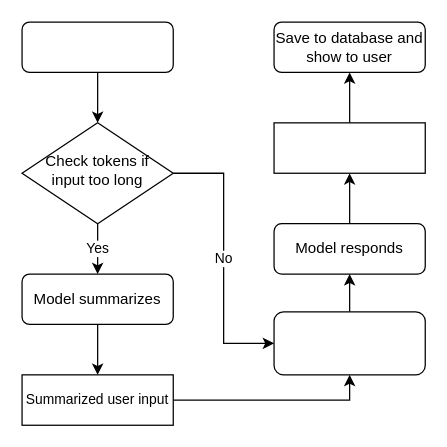
Image size: 447x447. Some labels were removed from this diagram. The shapes that lost their labels are listed below. From the top down, each one's centre as x and y in pixels, then its label:
At (97,46): "User Input".
At (349,147): "Output - model's response".
At (349,343): "Combine with system prompt and context (if there is)".
